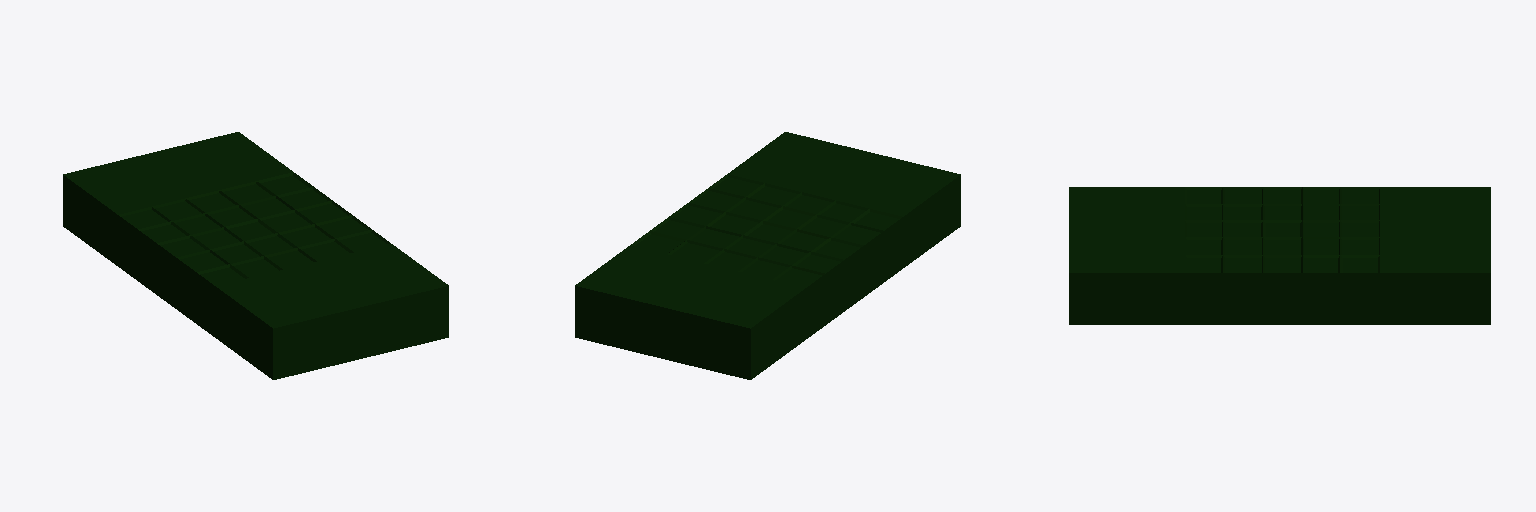
File: mapbase.obj
3 views of the same model, side by side, from view 1: azimuth 30°, elevation 25°; view 2: azimuth 150°, elevation 25°; view 3: azimuth 270°, elevation 25° (orthographic).
Parts seen in each view (by area): view 1: Cube_Cube.001; view 2: Cube_Cube.001; view 3: Cube_Cube.001.
Part boxes in pixels (x1,y1,x2,y2): Cube_Cube.001: (63,132,448,379); Cube_Cube.001: (575,132,960,379); Cube_Cube.001: (1069,187,1490,324).
Bounding box in the file's own units: 2.59 × 0.7302 × 5.38.